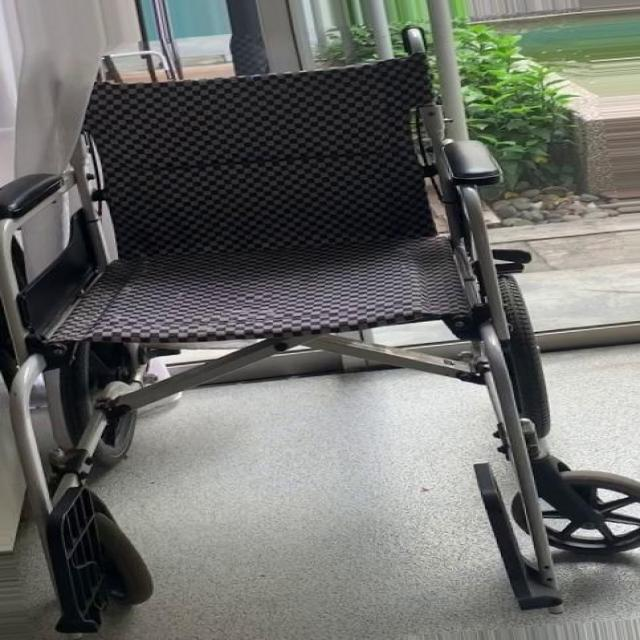wheelchair: (8, 26, 640, 640)
